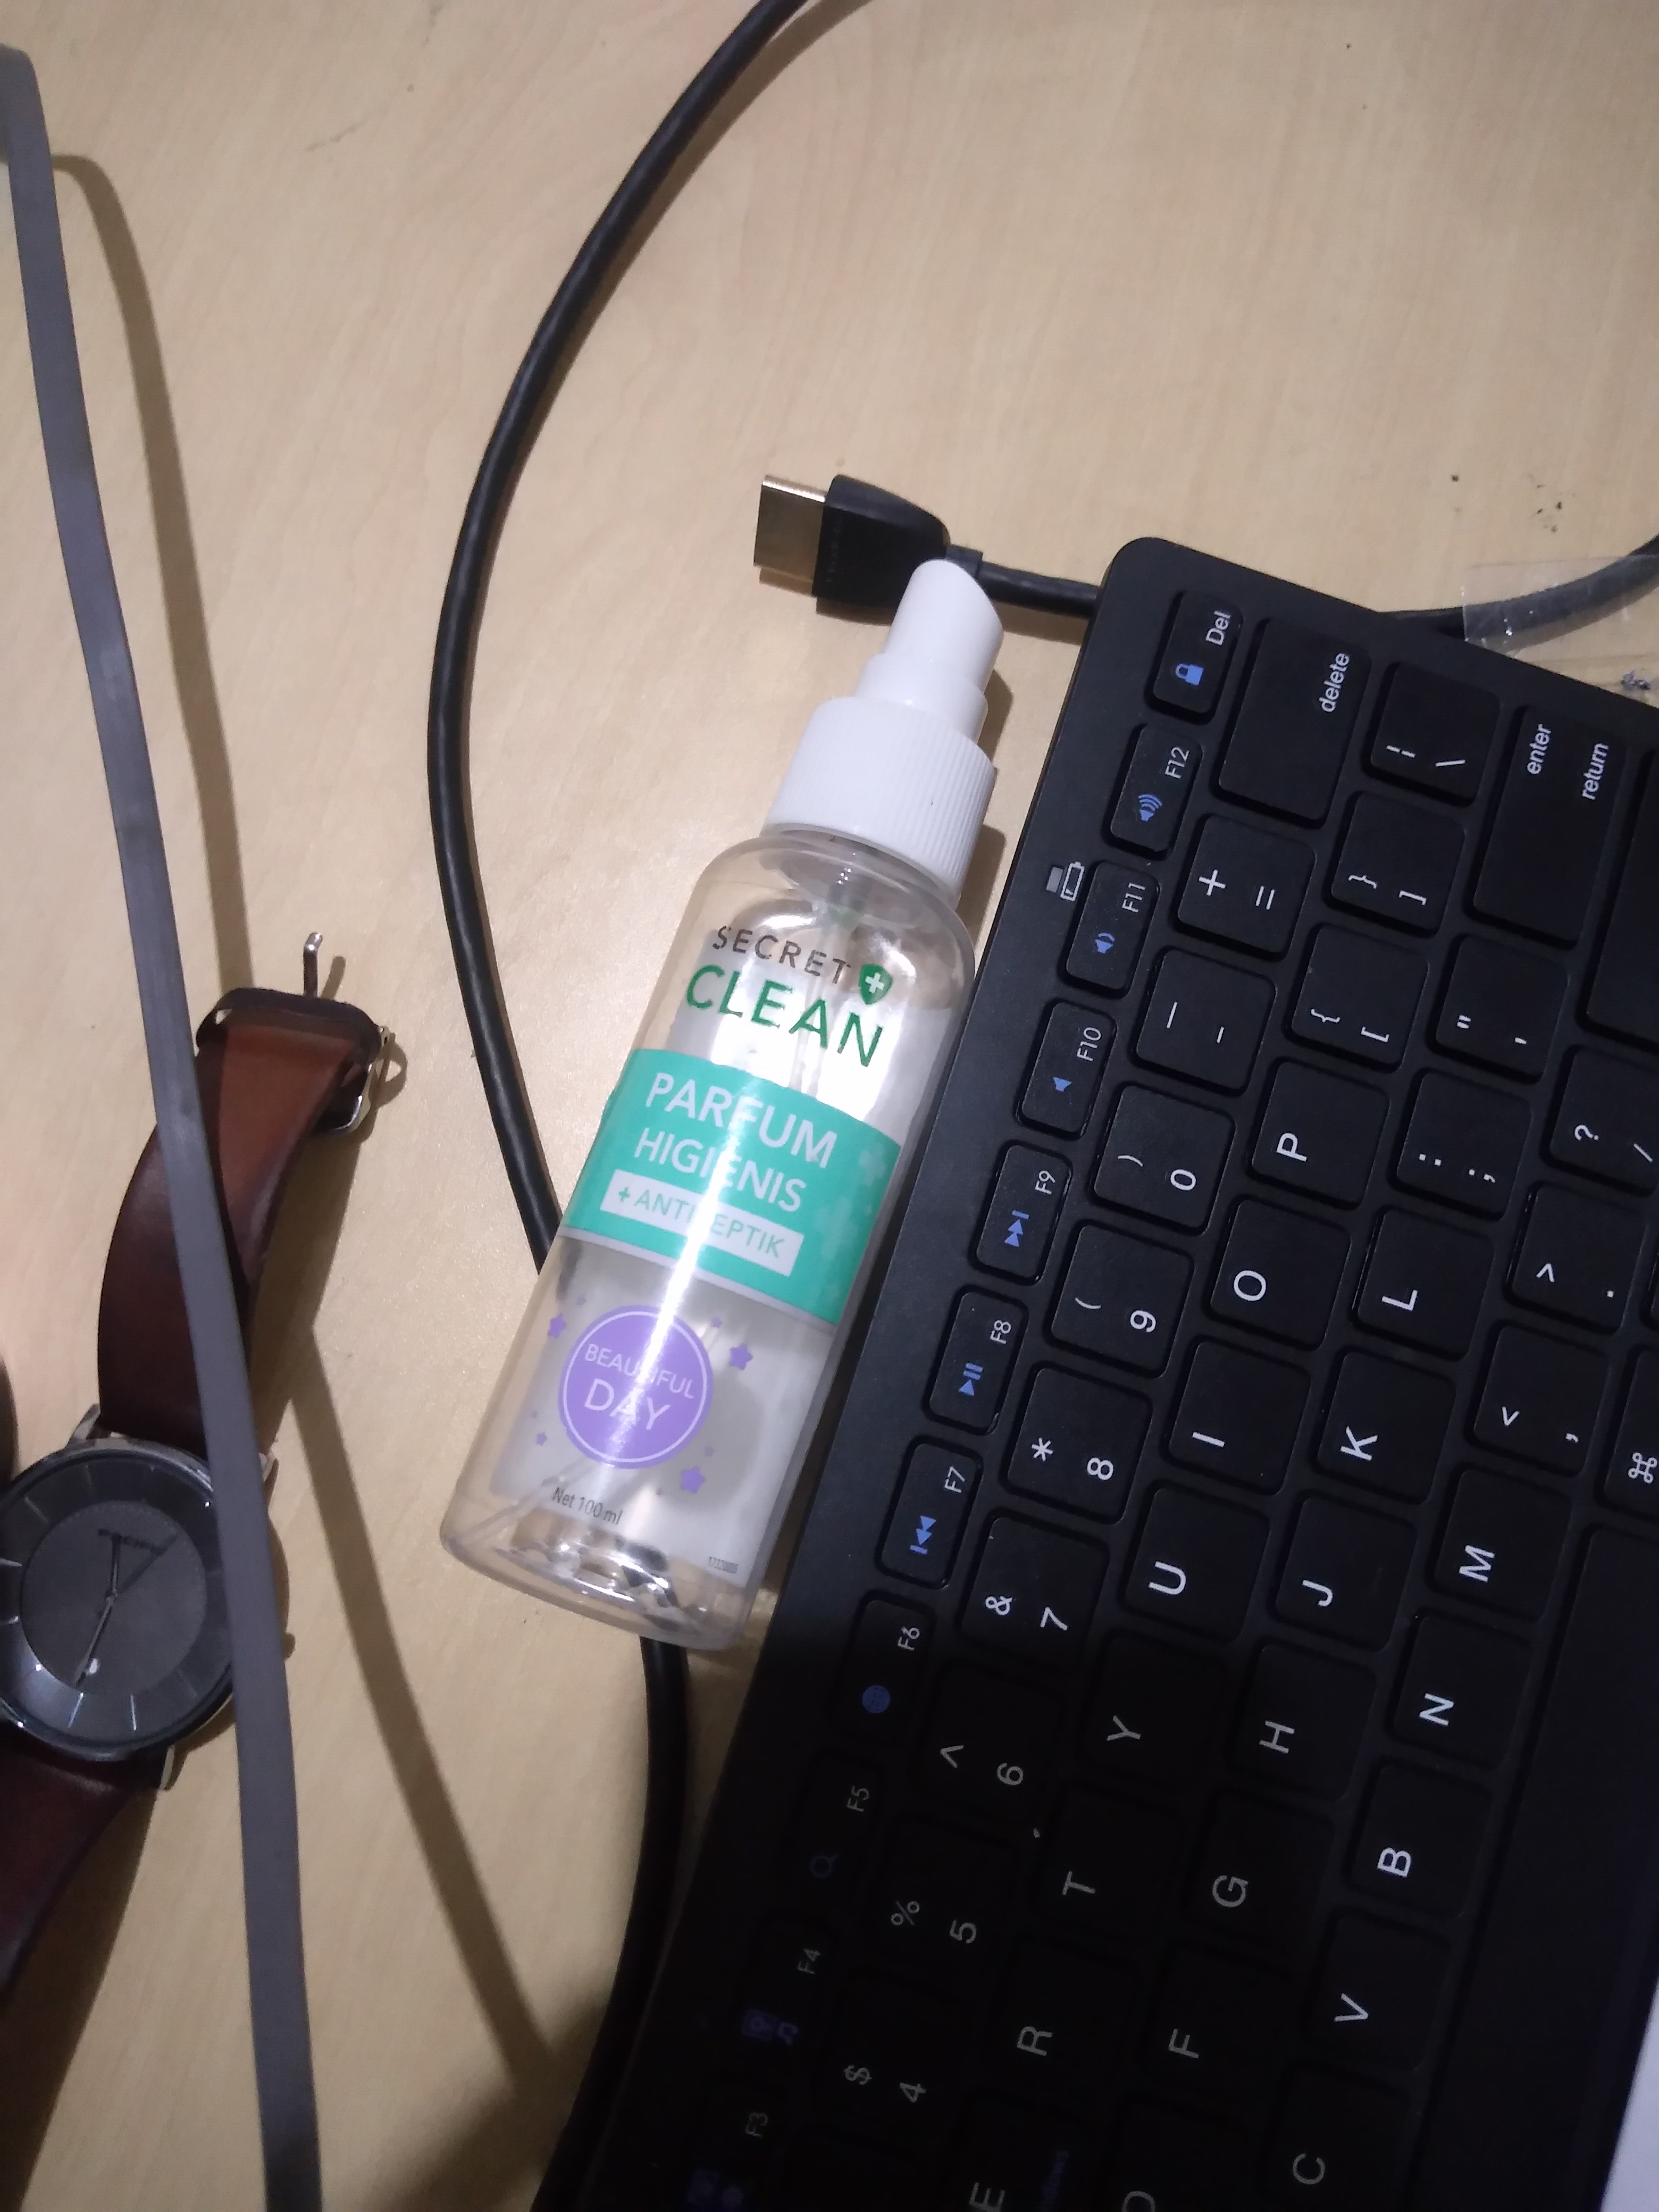hand sanitizer: (437, 484, 1037, 1672)
